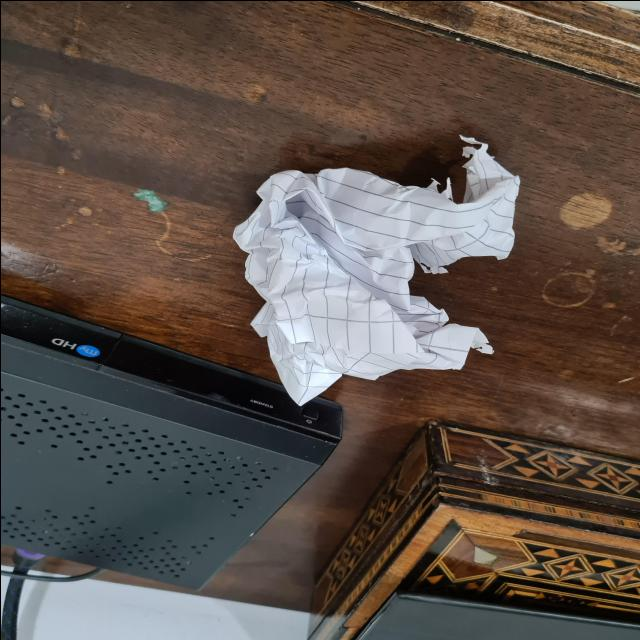kertas: (230, 139, 520, 403)
